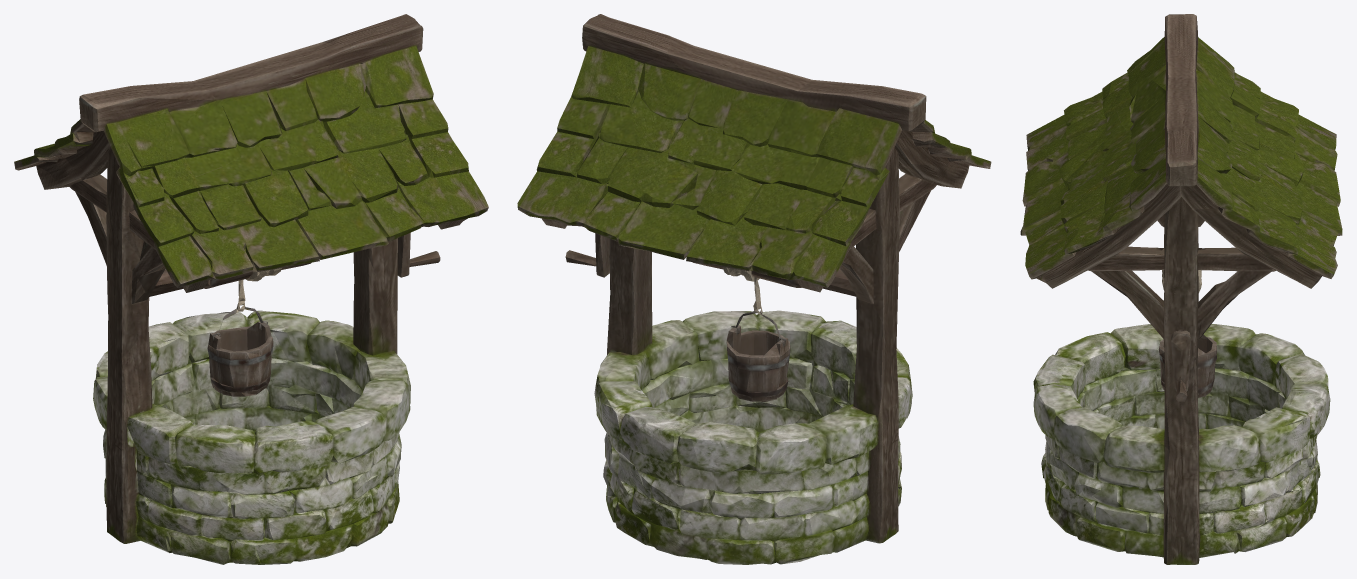
File: PocoEldoria.glb
3 views of the same model, side by side, from view 1: azimuth 30°, elevation 25°; view 2: azimuth 150°, elevation 25°; view 3: azimuth 270°, elevation 25° (orthographic). The views are drawn at different scales.
Parts seen in each view (by area): view 1: output_unwrapped; view 2: output_unwrapped; view 3: output_unwrapped.
Part boxes in pixels (<box>): output_unwrapped: <box>14,14,488,564</box>; output_unwrapped: <box>517,14,991,564</box>; output_unwrapped: <box>1020,14,1342,564</box>.
Size of the model in its own units: 1.57 by 1.9 by 1.34.
Materials: 1 (1 with a texture image).
